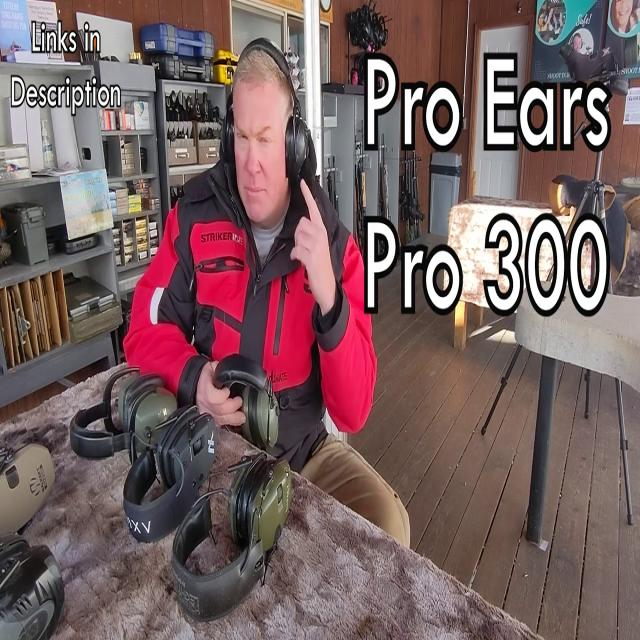earmuff: (281, 110, 311, 190), (219, 103, 239, 165)
